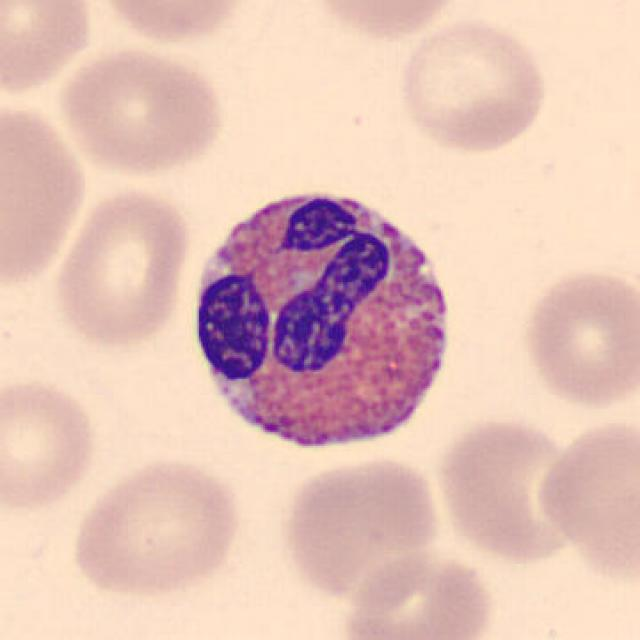Eosinophil: (178, 168, 469, 474)
RBC: (65, 453, 244, 601), (278, 452, 444, 600), (50, 183, 194, 351), (54, 42, 228, 180), (432, 411, 581, 566), (393, 14, 553, 157), (0, 91, 91, 292), (532, 412, 638, 584), (518, 262, 638, 412), (341, 548, 498, 640), (0, 373, 101, 513), (0, 0, 99, 100), (87, 0, 256, 48), (305, 0, 467, 42)
